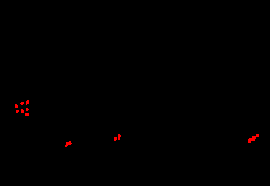Target: (248, 134, 259, 143), (65, 141, 72, 147), (118, 134, 121, 140), (26, 100, 29, 105), (20, 102, 24, 105), (15, 104, 18, 108), (21, 109, 24, 113), (25, 113, 29, 116), (114, 137, 117, 141), (26, 108, 29, 111), (16, 110, 19, 113)
